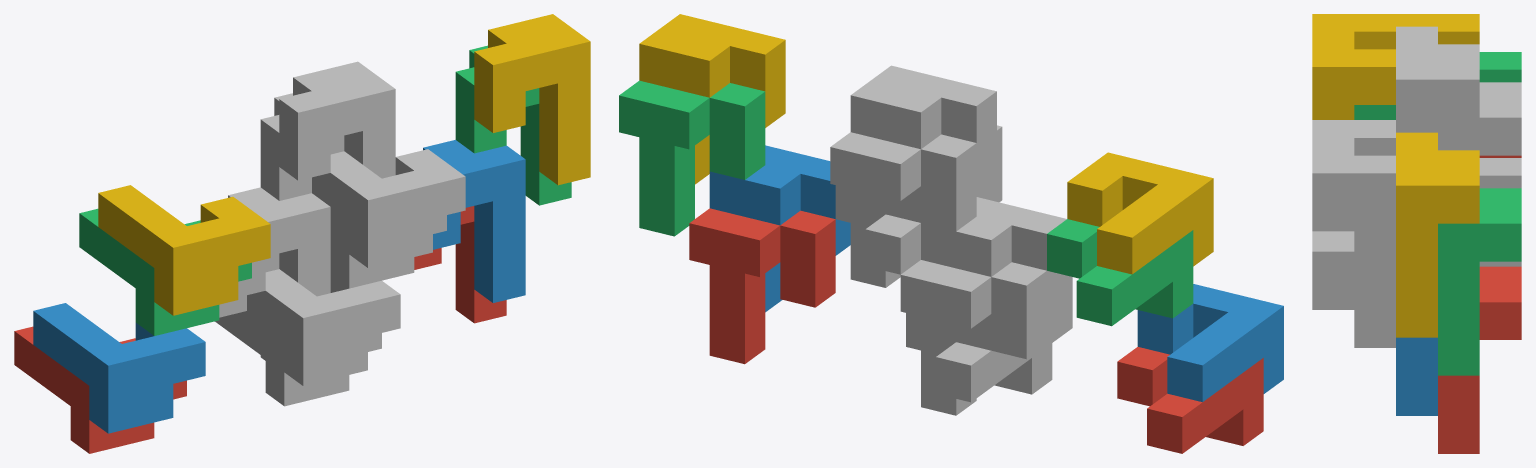
File: tiling.obj
3 renders of one model, left to right at view 1: azimuth 30°, elevation 25°; view 2: azimuth 150°, elevation 25°; view 3: azimuth 270°, elevation 25°, orthographic. The views are drawn at different scales.
Parts seen in each view (by area): view 1: copy_2_domain_8, copy_1_domain_4, copy_1_domain_2, copy_1_domain_8, copy_1_domain_6, copy_2_domain_4, copy_2_domain_6, copy_2_domain_2, copy_1_domain_3, copy_1_domain_1, copy_2_domain_7, copy_1_domain_5 (+4 smaller); view 2: copy_2_domain_5, copy_2_domain_7, copy_1_domain_4, copy_2_domain_3, copy_2_domain_1, copy_1_domain_2, copy_2_domain_8, copy_2_domain_4, copy_1_domain_3, copy_1_domain_1, copy_2_domain_6, copy_2_domain_2 (+4 smaller); view 3: copy_2_domain_8, copy_1_domain_4, copy_2_domain_7, copy_1_domain_8, copy_2_domain_4, copy_2_domain_5, copy_2_domain_3, copy_1_domain_6, copy_1_domain_7, copy_2_domain_6, copy_1_domain_5, copy_1_domain_3.
Boxes of the visible parts, bbox=[...] form: copy_2_domain_8: bbox=[474, 14, 590, 185]; copy_1_domain_4: bbox=[98, 185, 270, 315]; copy_1_domain_2: bbox=[33, 303, 205, 433]; copy_1_domain_8: bbox=[312, 149, 465, 268]; copy_1_domain_6: bbox=[247, 269, 400, 385]; copy_2_domain_4: bbox=[279, 61, 395, 180]; copy_2_domain_6: bbox=[423, 140, 525, 302]; copy_2_domain_2: bbox=[228, 187, 330, 297]; copy_1_domain_3: bbox=[79, 208, 251, 335]; copy_1_domain_1: bbox=[14, 326, 186, 453]; copy_2_domain_7: bbox=[455, 45, 571, 205]; copy_1_domain_5: bbox=[215, 311, 381, 406]; copy_2_domain_5: bbox=[689, 208, 835, 364]; copy_2_domain_7: bbox=[619, 80, 765, 236]; copy_1_domain_4: bbox=[1067, 152, 1213, 274]; copy_2_domain_3: bbox=[830, 132, 976, 287]; copy_2_domain_1: bbox=[900, 260, 1046, 415]; copy_1_domain_2: bbox=[1137, 284, 1283, 401]; copy_2_domain_8: bbox=[639, 14, 785, 184]; copy_2_domain_4: bbox=[850, 65, 996, 179]; copy_1_domain_3: bbox=[1047, 219, 1193, 326]; copy_1_domain_1: bbox=[1117, 347, 1263, 453]; copy_2_domain_6: bbox=[709, 145, 850, 312]; copy_2_domain_2: bbox=[921, 197, 1067, 307]; copy_2_domain_8: bbox=[1396, 132, 1479, 337]; copy_1_domain_4: bbox=[1312, 14, 1479, 119]; copy_2_domain_7: bbox=[1438, 188, 1521, 375]; copy_1_domain_8: bbox=[1312, 120, 1395, 231]; copy_2_domain_4: bbox=[1396, 26, 1479, 132]; copy_2_domain_5: bbox=[1438, 266, 1521, 453]; copy_2_domain_3: bbox=[1438, 82, 1521, 155]; copy_1_domain_6: bbox=[1312, 231, 1395, 309]; copy_1_domain_7: bbox=[1354, 158, 1521, 269]; copy_2_domain_6: bbox=[1396, 337, 1437, 415]; copy_1_domain_5: bbox=[1354, 261, 1521, 347]; copy_1_domain_3: bbox=[1354, 52, 1521, 119].
Bounding box in the file's own units: 16 × 8 × 5.
